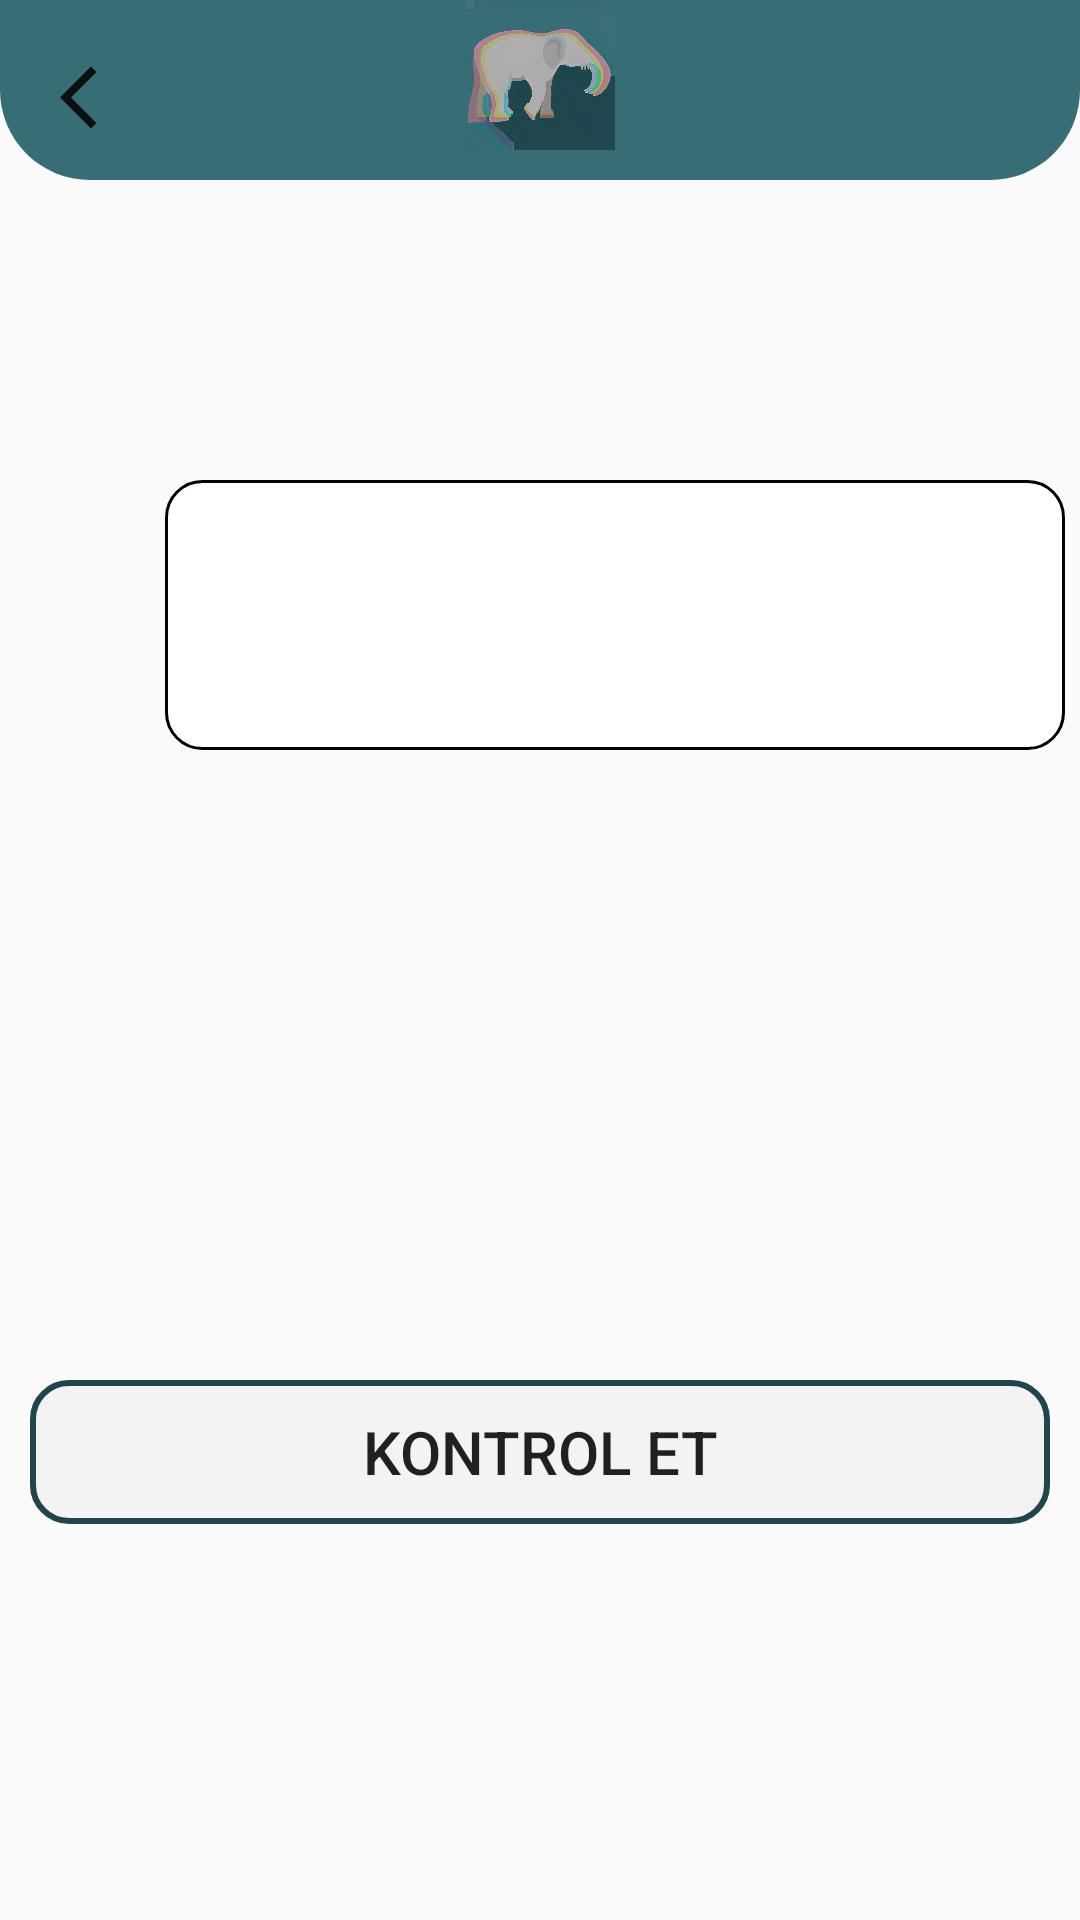

Icons on this 1080 x 1920 Android screen, each with the point to tap as (x=x, y=y):
back: (x=78, y=97)
